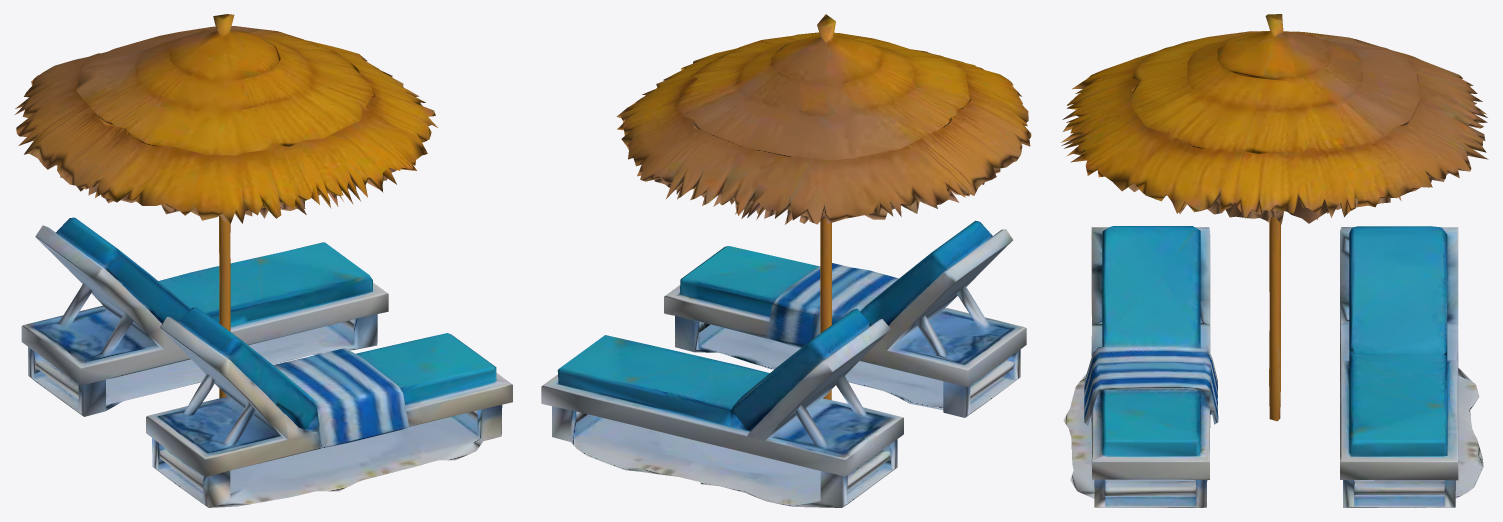
File: loungers.glb
3 views of the same model, side by side, from view 1: azimuth 30°, elevation 25°; view 2: azimuth 150°, elevation 25°; view 3: azimuth 270°, elevation 25° (orthographic).
Visible parts, largest first — view 1: tripo_node_c59e552d-ef15-49af-a5f7-1dff701492c7; view 2: tripo_node_c59e552d-ef15-49af-a5f7-1dff701492c7; view 3: tripo_node_c59e552d-ef15-49af-a5f7-1dff701492c7.
Boxes of the visible parts, <box> form: tripo_node_c59e552d-ef15-49af-a5f7-1dff701492c7: <box>15,14,512,507</box>; tripo_node_c59e552d-ef15-49af-a5f7-1dff701492c7: <box>541,14,1031,507</box>; tripo_node_c59e552d-ef15-49af-a5f7-1dff701492c7: <box>1060,14,1488,507</box>.
Bounding box in the file's own units: 0.9618 × 1 × 0.9597.
1 material, 1 textured.
